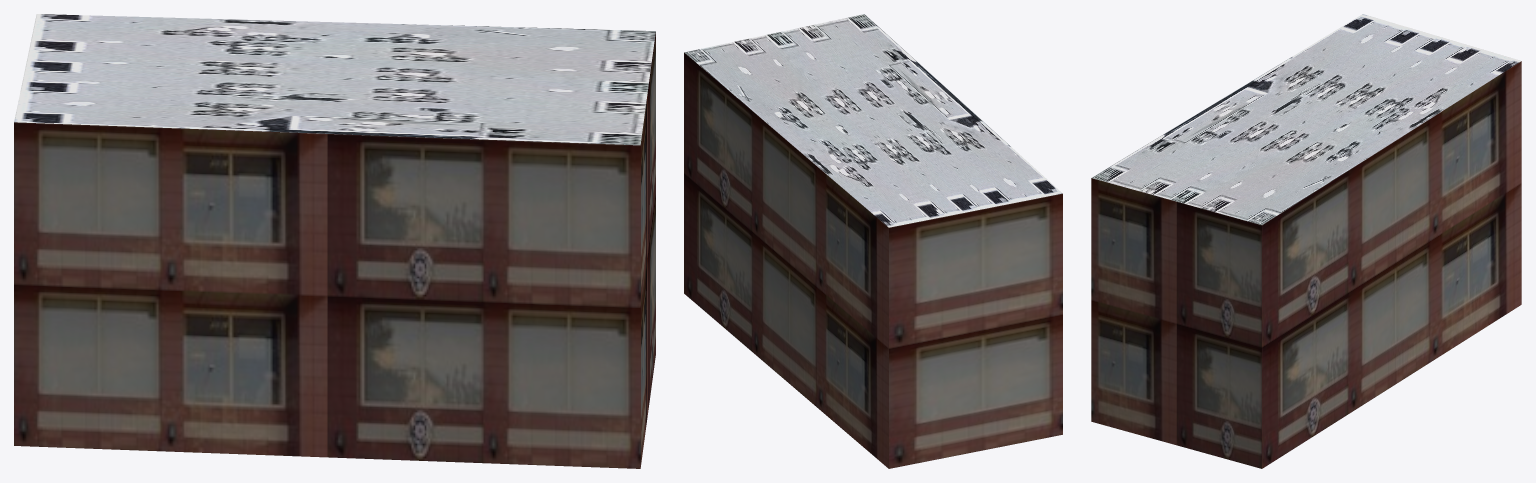
Rendered from ResTex__163.fbx.
3 views of the same model, side by side, from view 1: azimuth 30°, elevation 25°; view 2: azimuth 150°, elevation 25°; view 3: azimuth 270°, elevation 25° (orthographic). The views are drawn at different scales.
Visible parts, largest first — view 1: CityEngineMaterial_13_m, CityEngineMaterial_m; view 2: CityEngineMaterial_13_m, CityEngineMaterial_m; view 3: CityEngineMaterial_13_m, CityEngineMaterial_m.
Part boxes in pixels (x1,y1,x2,y2): CityEngineMaterial_13_m: (14,32,655,468); CityEngineMaterial_m: (14,14,655,145); CityEngineMaterial_13_m: (684,52,1062,468); CityEngineMaterial_m: (684,14,1062,227); CityEngineMaterial_13_m: (1091,61,1521,468); CityEngineMaterial_m: (1092,14,1520,224).
Bounding box in the file's own units: 11.16 × 6 × 9.6.
2 materials, 2 textured.
